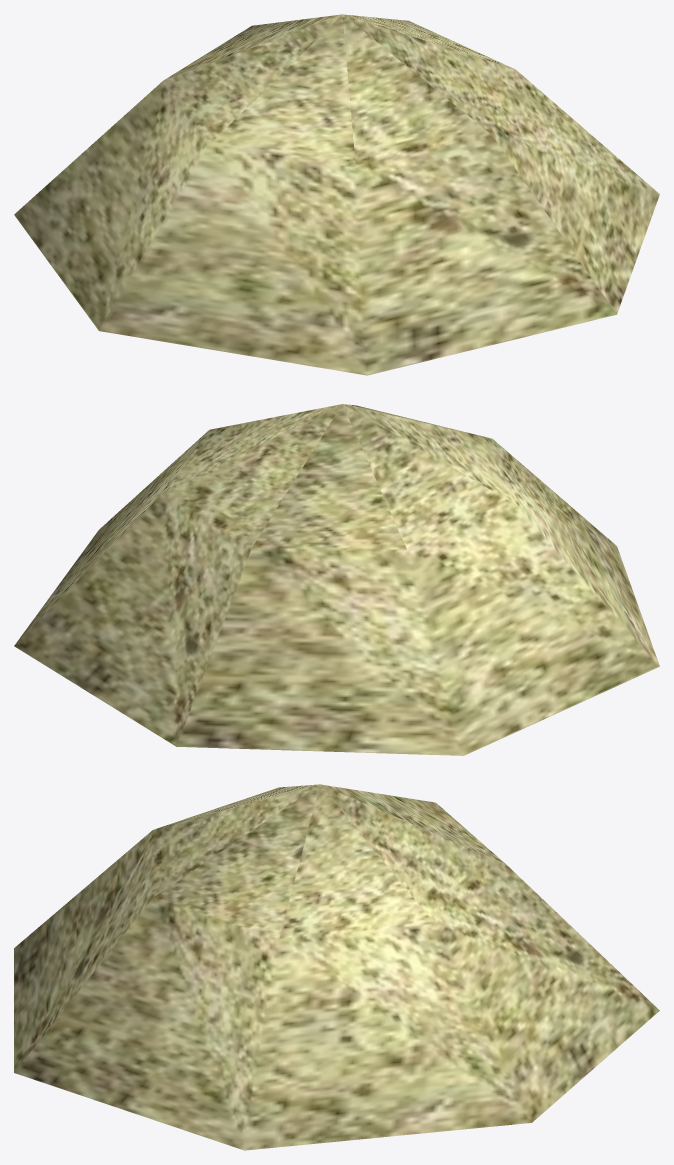
File: fodder.glb
The picture shows the model from 3 angles, top to bottom: view 1: azimuth 30°, elevation 25°; view 2: azimuth 150°, elevation 25°; view 3: azimuth 270°, elevation 25°; orthographic projection. The views are drawn at different scales.
Visible parts, largest first — view 1: fodder; view 2: fodder; view 3: fodder.
Part boxes in pixels (x1,y1,x2,y2): fodder: (14, 14, 659, 375); fodder: (14, 404, 659, 755); fodder: (14, 784, 659, 1150).
Bounding box in the file's own units: 2.65 × 1 × 2.59.
Materials: 1 (1 with a texture image).
